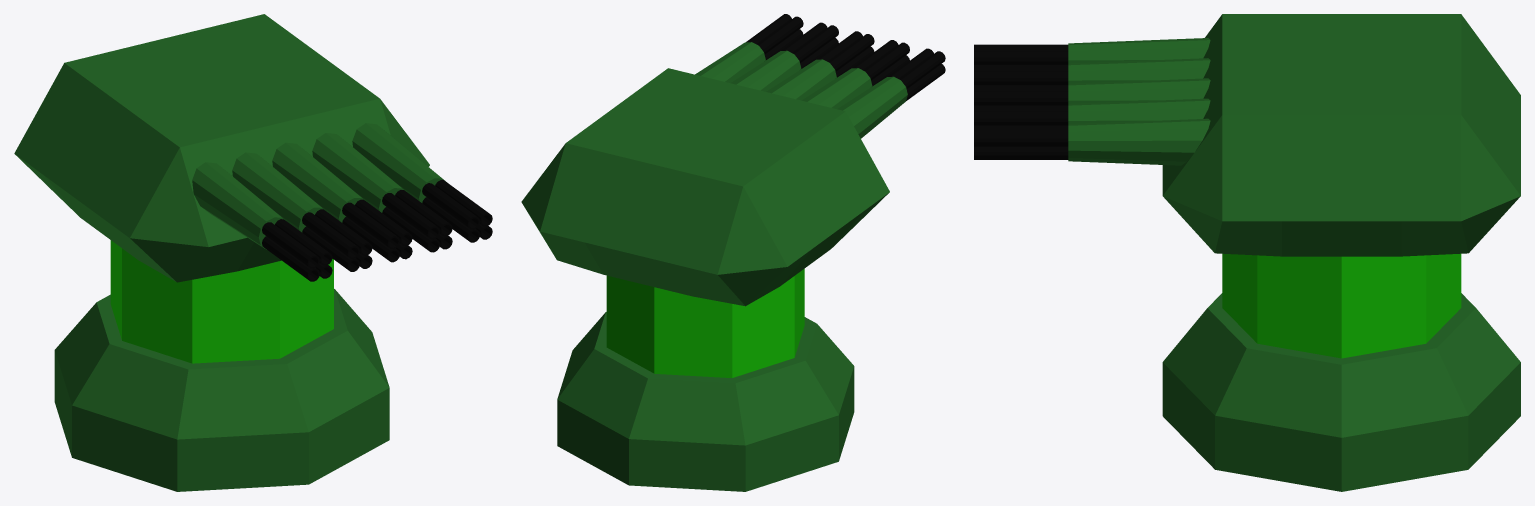
Rendered from Turret3_2.glb.
The picture shows the model from 3 angles, left to right: view 1: azimuth 30°, elevation 25°; view 2: azimuth 150°, elevation 25°; view 3: azimuth 270°, elevation 25°; orthographic projection. The views are drawn at different scales.
Visible parts, largest first — view 1: TurretUpgradePath3_2; view 2: TurretUpgradePath3_2; view 3: TurretUpgradePath3_2.
Part boxes in pixels (x1,y1,x2,y2): TurretUpgradePath3_2: [14, 14, 492, 491]; TurretUpgradePath3_2: [521, 14, 945, 491]; TurretUpgradePath3_2: [974, 14, 1520, 491].
Size of the model in its own units: 3 by 3.25 by 4.58.
